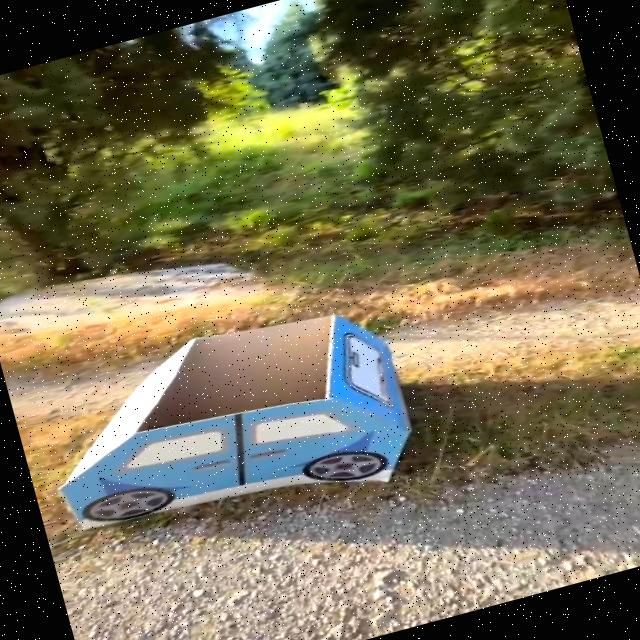blue_car: (0, 227, 517, 600)
